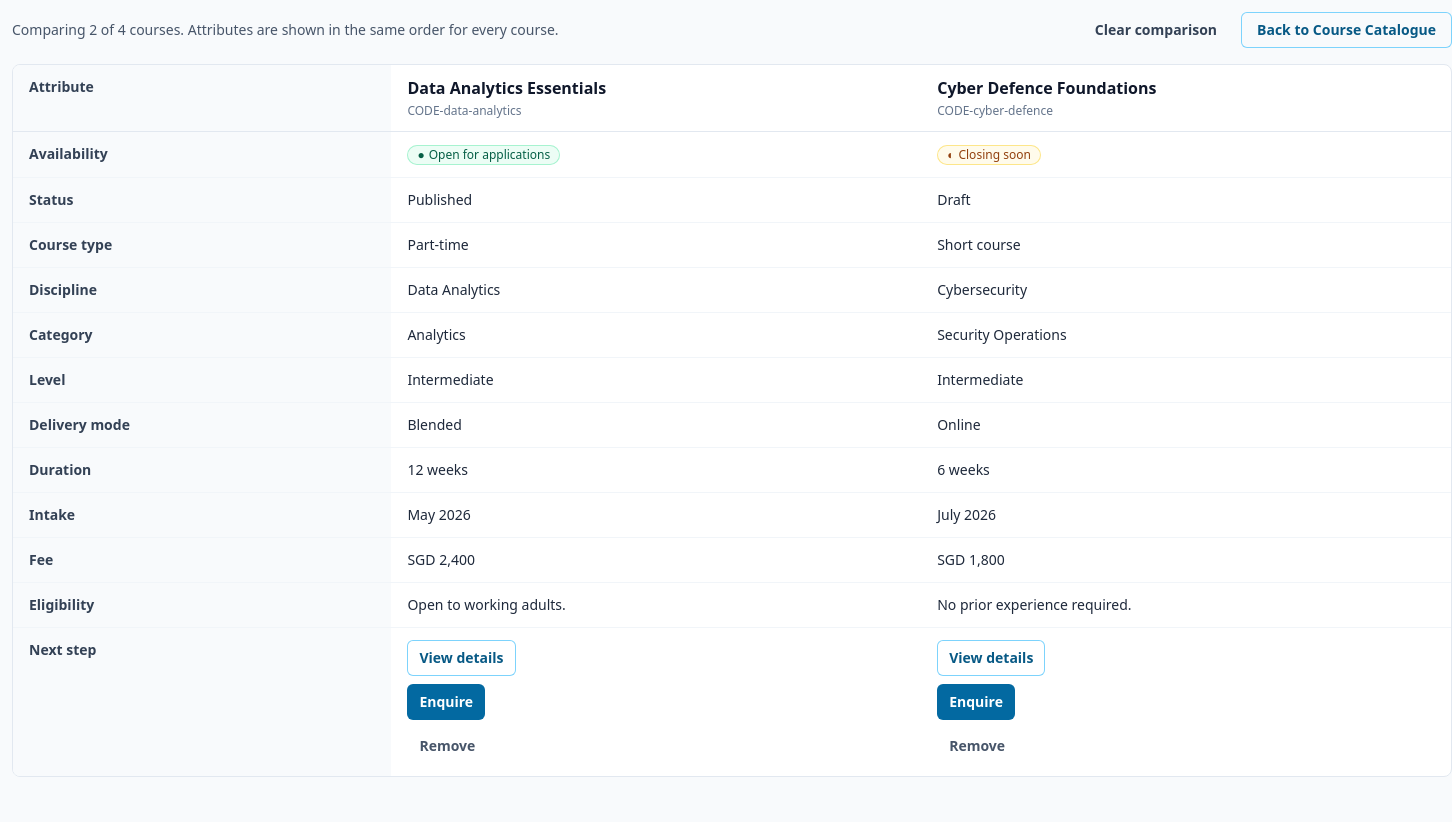
Scenario: ComparisonView with a selection › removes a course from the comparison (AC-402)
Click the button with aria-label "remove data analytics essentials from comparison" at coordinates (447, 746), box [407,728,487,764]
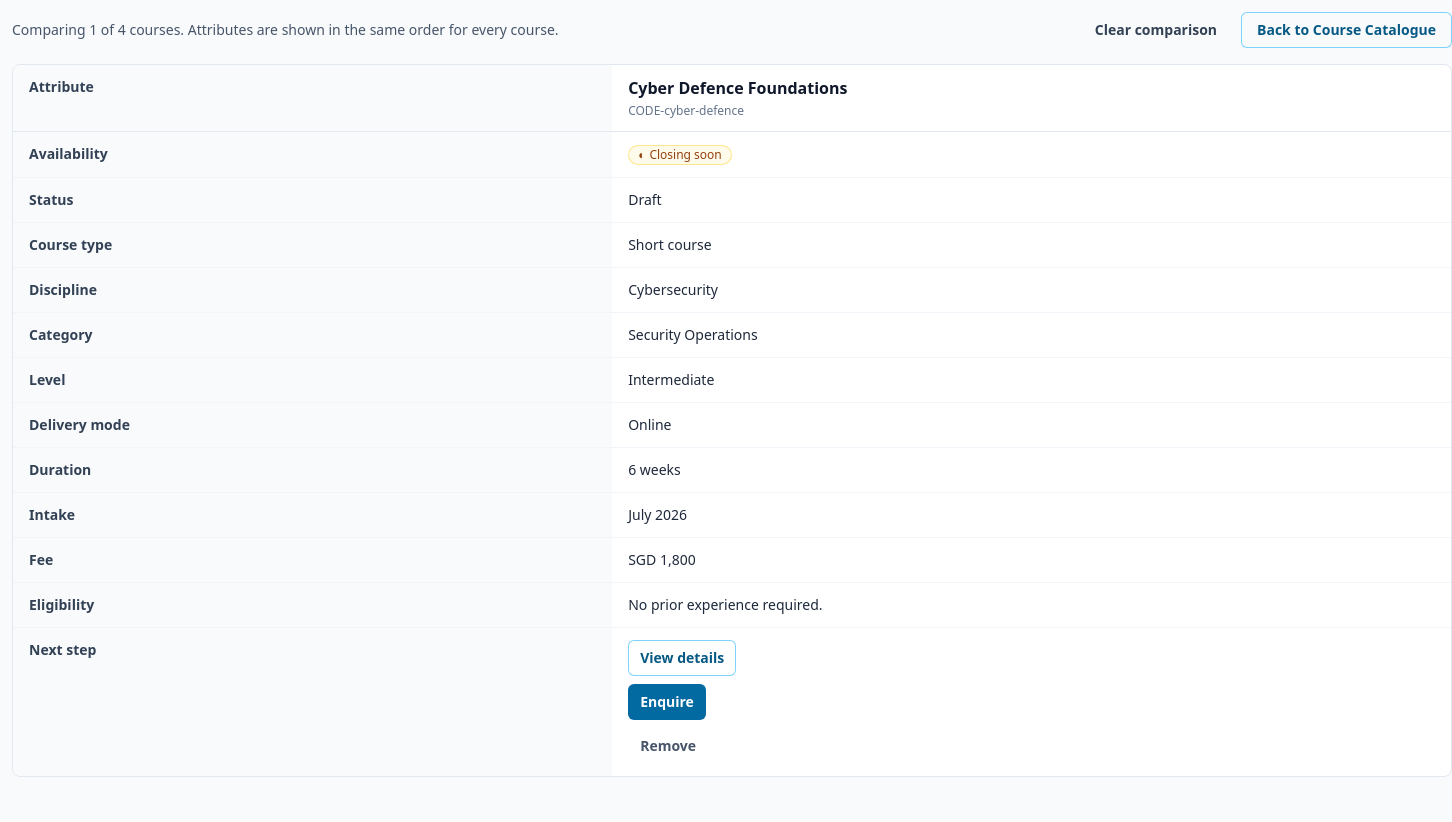
Expected: the link "Cyber Defence Foundations" is shown, [628,77,848,99]
Expected: the link "Data Analytics Essentials" is gone
